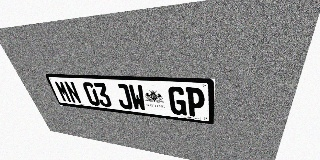0: (81, 82, 101, 106)
3: (93, 82, 112, 107)
G: (168, 86, 187, 116)
J: (114, 83, 133, 110)
M: (53, 80, 73, 103)
N: (63, 81, 82, 104)
P: (186, 87, 204, 118)
W: (128, 84, 147, 111)
